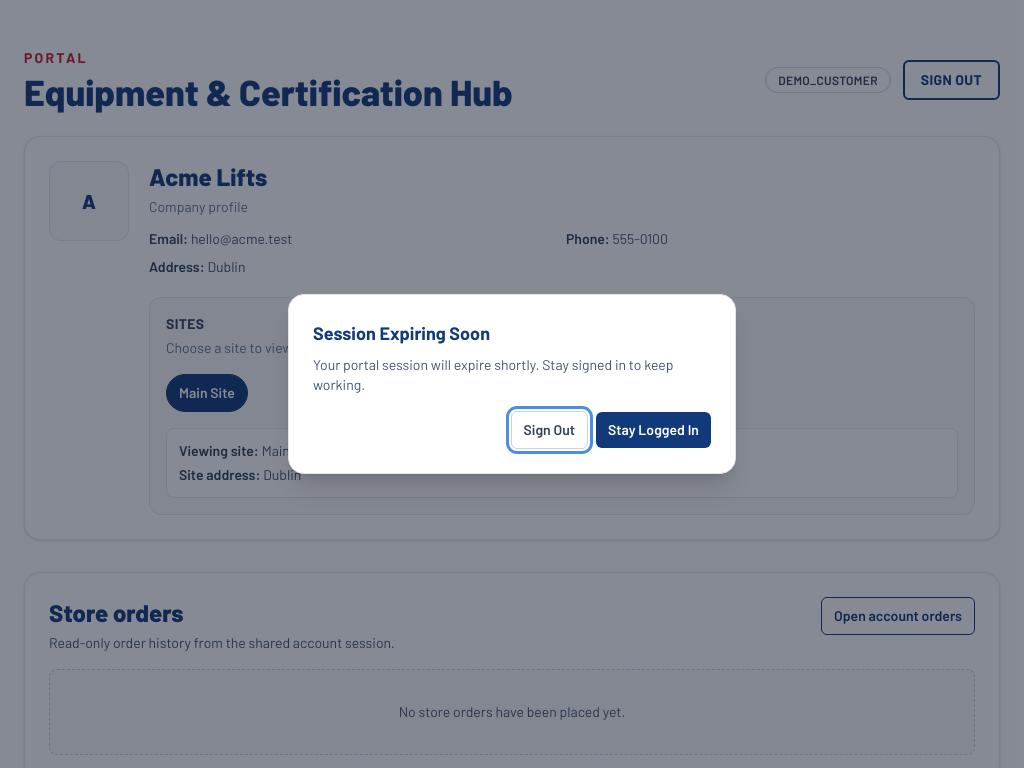
Test case: PortalDashboardPage › shows a pre-expiry warning modal and refreshes the session when requested
This screenshot has width=1024, height=768.
expect the heading "Acme Lifts" is shown: met, box x1=149 y1=162 x2=267 y2=191
expect the heading "Session Expiring Soon" is shown: met, box x1=313 y1=322 x2=490 y2=344
Click the button "Stay Logged In".
click(654, 430)  # box x1=596 y1=412 x2=711 y2=448
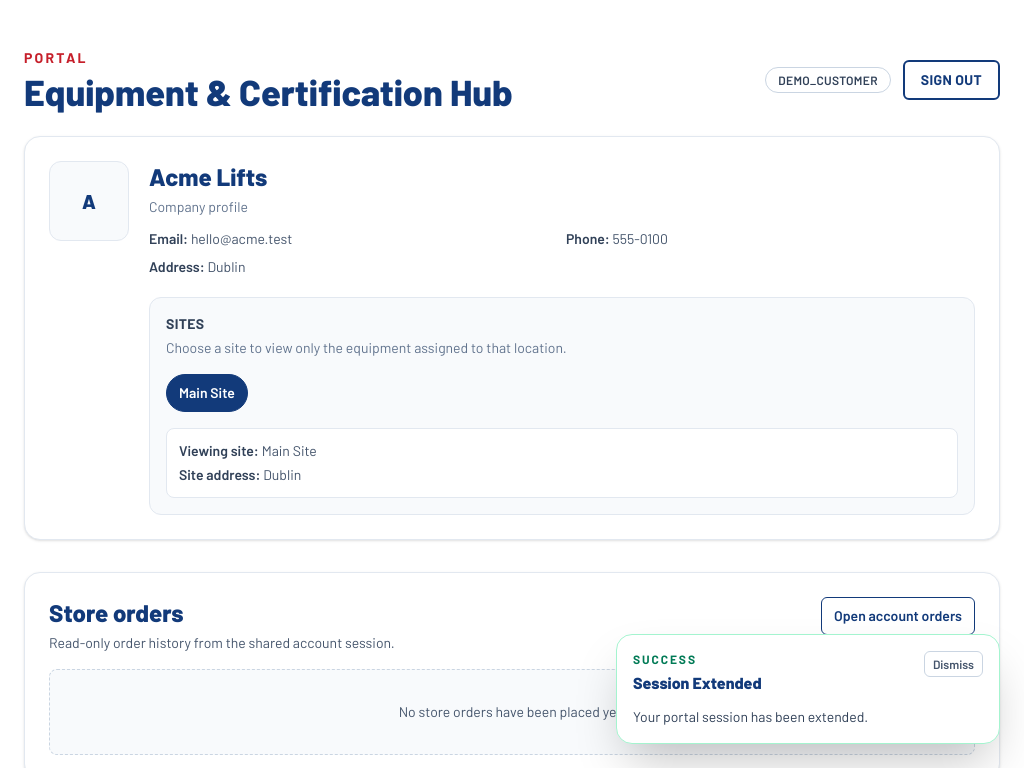
expect the heading "Session Expiring Soon" is gone: met
